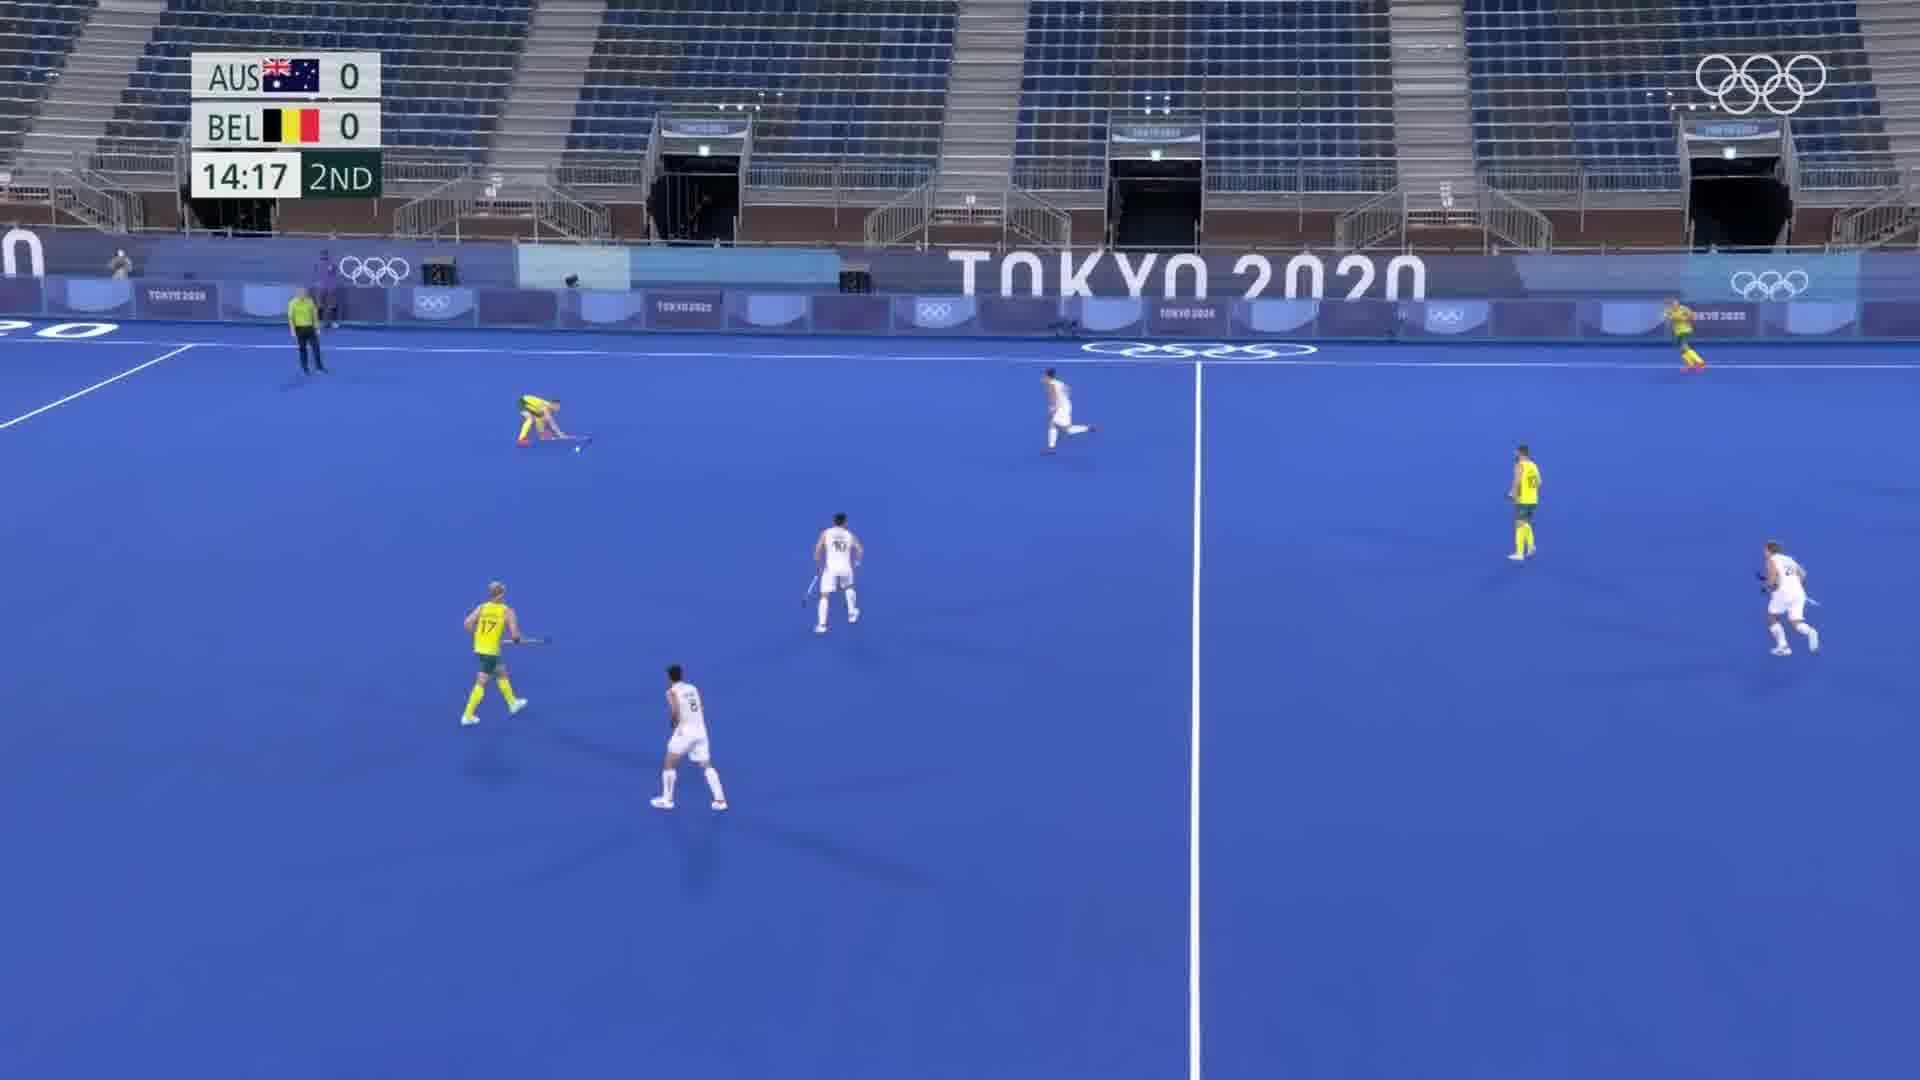ball: (570, 443, 585, 458)
